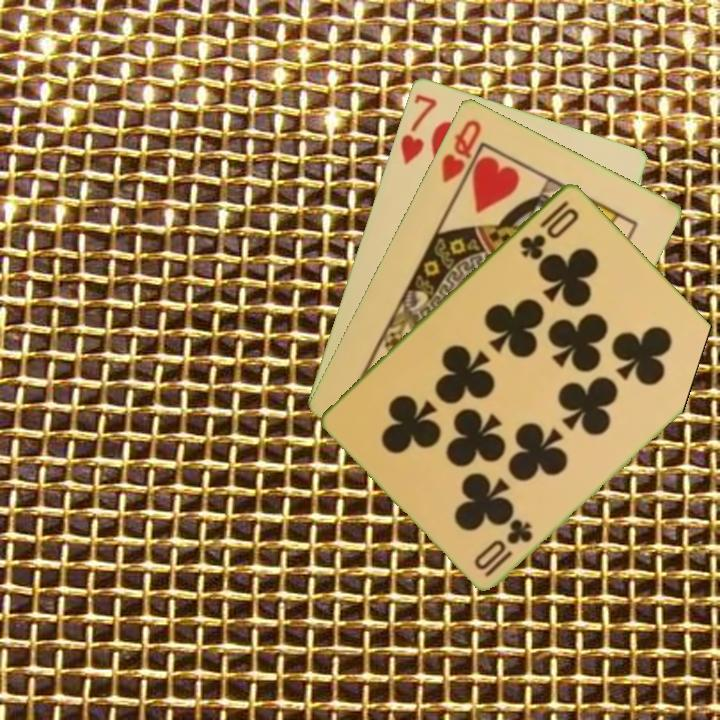10c: (516, 196, 582, 262), (481, 515, 536, 580)
7h: (396, 90, 440, 167)
Qh: (437, 115, 484, 185)
